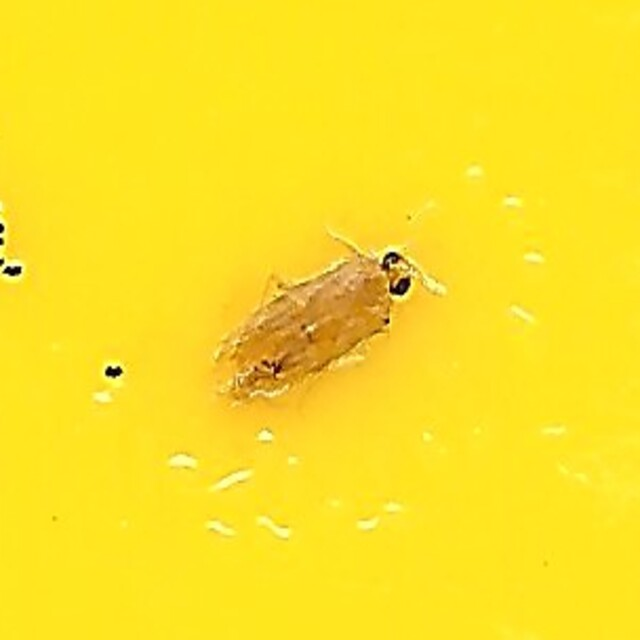Trichoptera: (211, 238, 429, 402)
